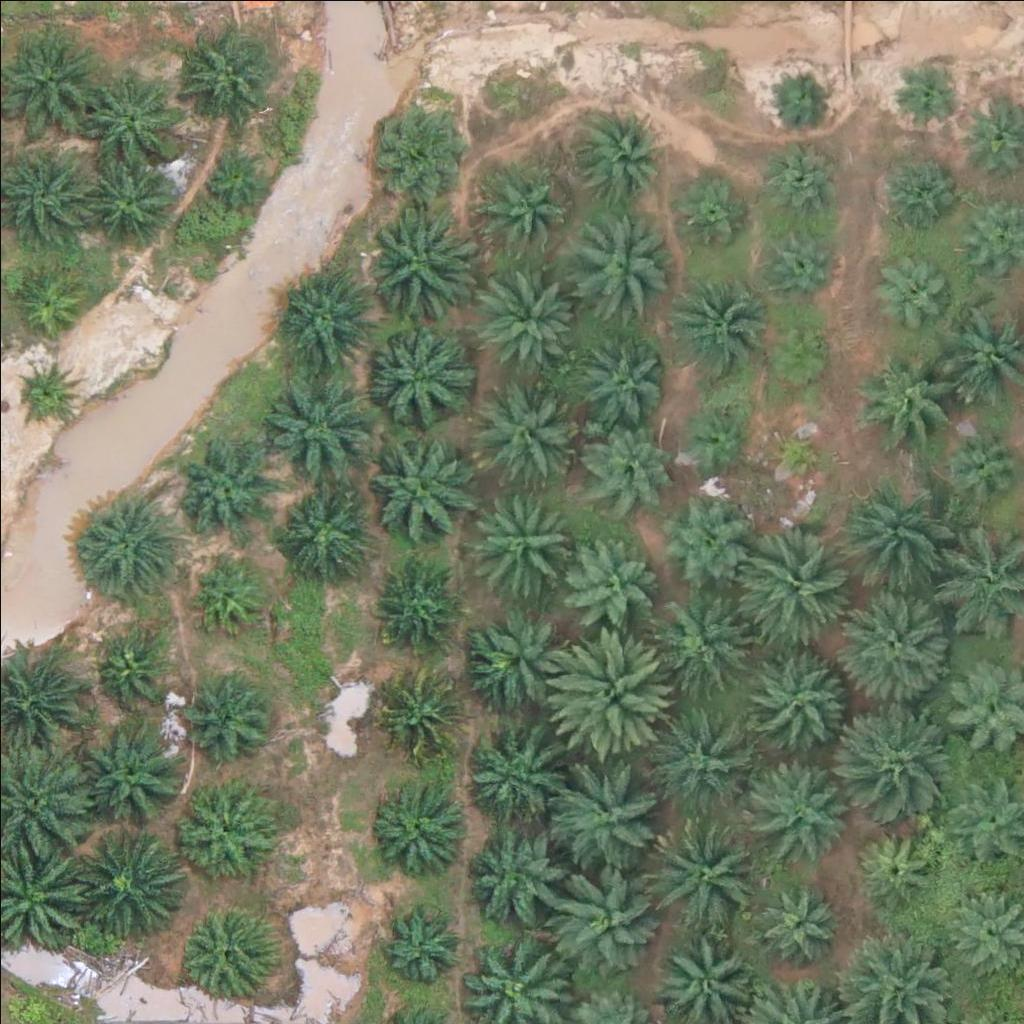Kelapa_Sawit: (542, 628, 667, 754), (552, 762, 665, 876), (263, 375, 376, 488), (362, 431, 475, 544), (358, 320, 471, 433), (650, 815, 763, 928), (646, 703, 759, 816), (739, 648, 852, 761), (842, 587, 955, 700), (73, 821, 186, 934), (545, 857, 658, 970), (843, 484, 955, 598), (360, 208, 472, 321), (747, 747, 859, 860), (742, 530, 854, 643), (845, 696, 957, 809), (85, 724, 185, 825), (79, 147, 179, 248), (277, 266, 377, 367), (177, 21, 277, 122), (365, 782, 465, 883), (369, 93, 469, 194), (458, 723, 558, 824), (472, 486, 572, 587), (477, 374, 577, 475), (481, 266, 581, 367), (655, 594, 755, 695), (653, 493, 753, 594), (861, 345, 961, 446), (662, 279, 762, 380), (77, 490, 177, 590), (84, 68, 184, 168), (174, 782, 274, 882), (171, 437, 271, 537), (463, 817, 563, 917), (473, 617, 573, 717), (570, 215, 670, 315), (176, 897, 276, 997), (189, 677, 277, 765), (278, 482, 366, 570), (378, 671, 466, 759), (585, 419, 673, 507), (760, 136, 848, 224), (852, 822, 940, 910), (379, 902, 467, 990), (752, 877, 840, 965), (583, 331, 670, 420), (376, 563, 463, 651), (476, 161, 563, 249), (574, 112, 661, 200), (568, 539, 655, 627), (751, 217, 838, 305), (880, 246, 955, 322), (878, 158, 953, 234), (679, 398, 754, 474), (190, 558, 265, 634), (760, 311, 835, 387), (672, 177, 747, 252), (95, 633, 170, 708), (11, 259, 86, 334), (196, 135, 271, 210), (14, 358, 77, 421), (901, 63, 964, 126), (769, 67, 831, 130), (766, 423, 828, 486)
